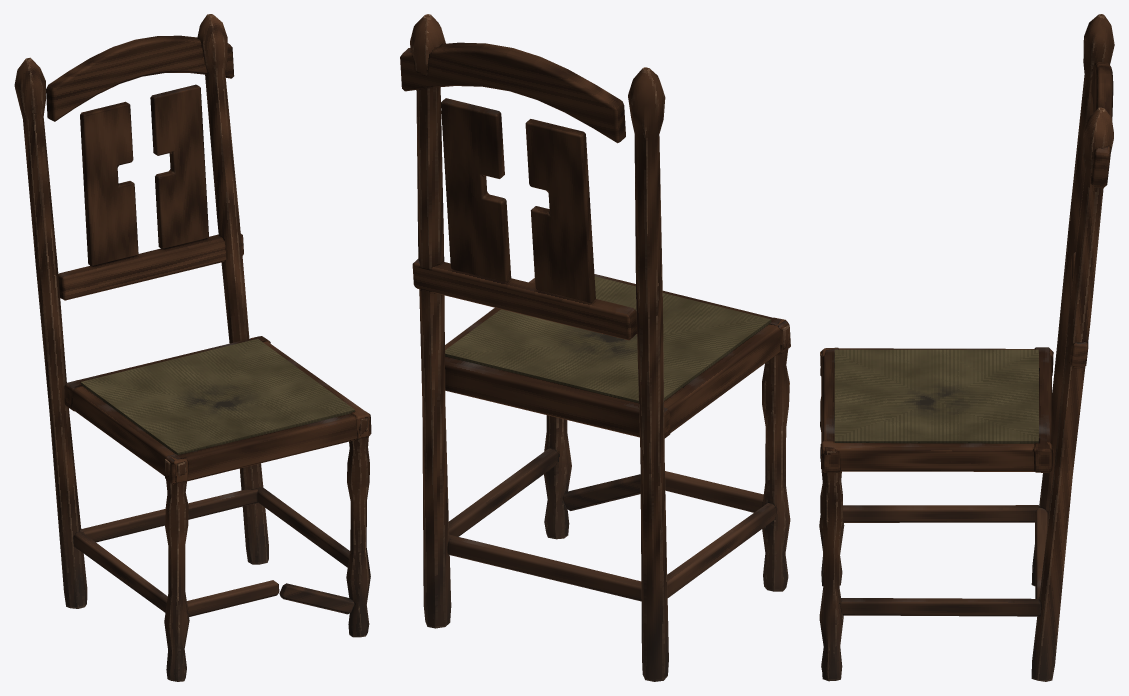
The model's file is chair.glb.
3 views of the same model, side by side, from view 1: azimuth 30°, elevation 25°; view 2: azimuth 150°, elevation 25°; view 3: azimuth 270°, elevation 25° (orthographic). The views are drawn at different scales.
Parts seen in each view (by area): view 1: Chair; view 2: Chair; view 3: Chair.
Part boxes in pixels (x1,y1,x2,y2): Chair: [14, 14, 371, 681]; Chair: [400, 14, 790, 681]; Chair: [819, 14, 1114, 681].
Bounding box in the file's own units: 0.4925 × 1.12 × 0.5343.
1 material, 1 textured.
